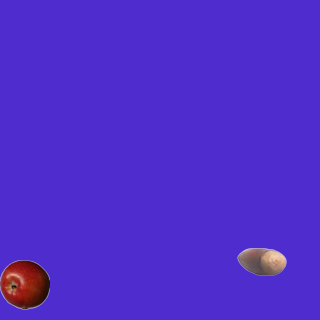Apple Braeburn: (0, 259, 49, 309)
Hazelnut: (236, 236, 286, 286)
